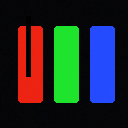4 line_v: (26, 16, 30, 76)
